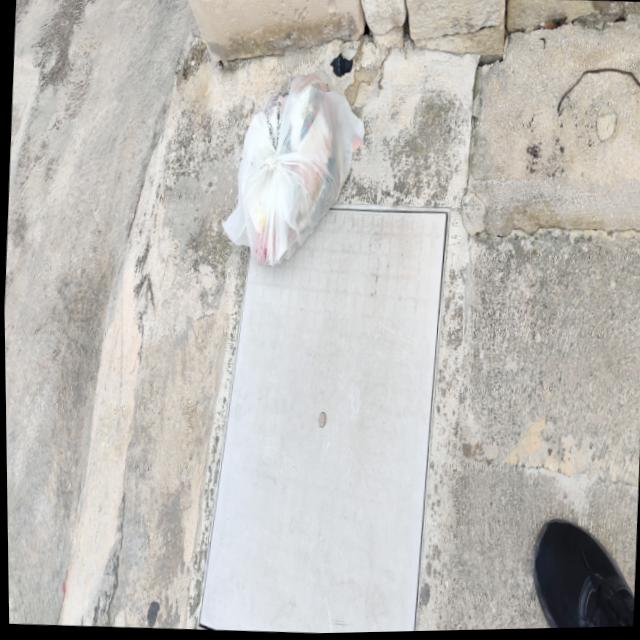Organic Waste -White Bags-: (219, 77, 368, 271)
